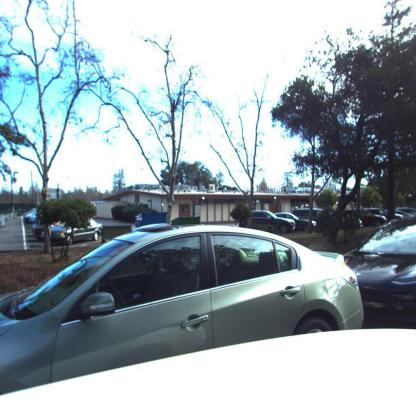car: (0, 224, 407, 415), (344, 211, 416, 328), (230, 210, 294, 235), (48, 219, 104, 245), (272, 212, 311, 232), (356, 208, 387, 228)
